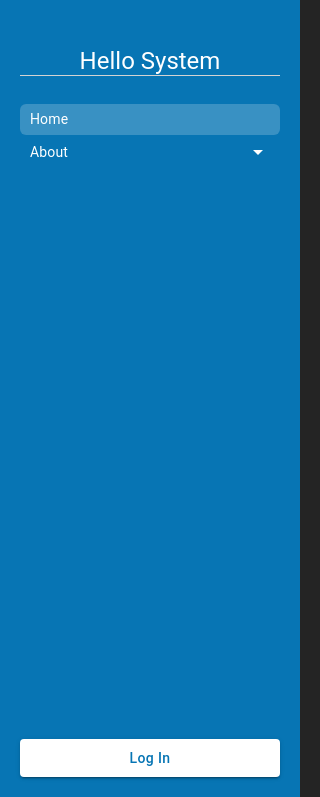
Test: Navigation › navigation to company page
Click the button "About" at (49, 152), box 20,135 -> 280,169
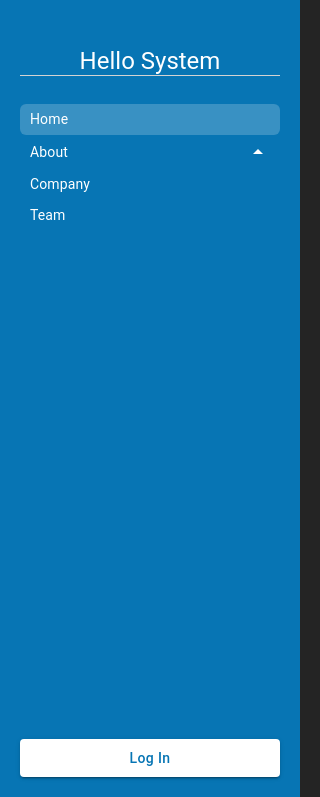
Expected: the text "Company" is shown
Click the link "Company" at (60, 184), box 30,176 -> 90,192
(page scrolled)
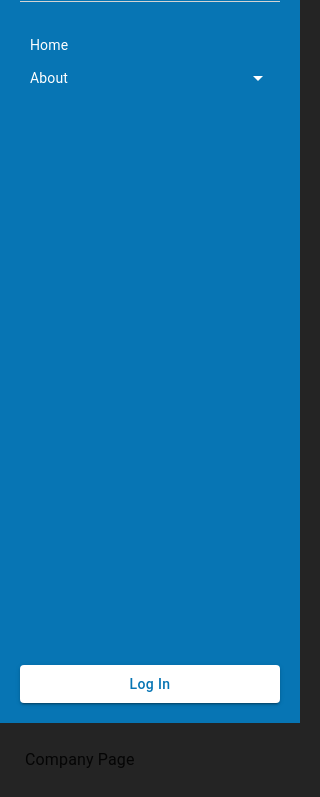
Expected: the text "Company Page" is shown, 25,750 -> 135,769
